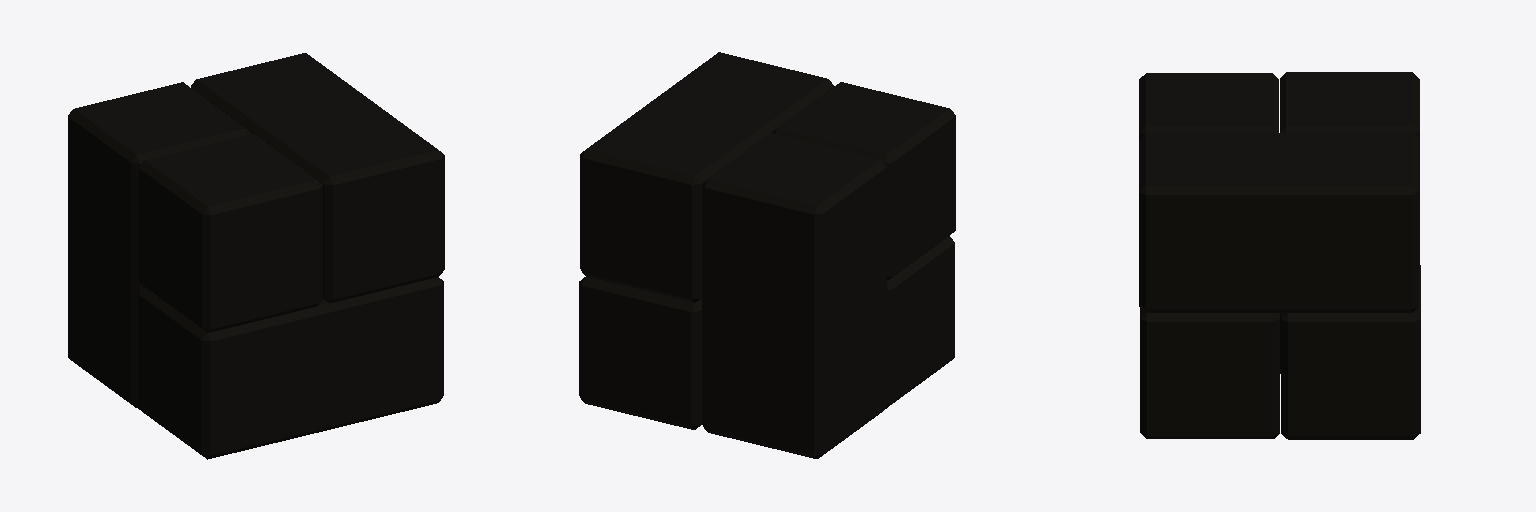
The model's file is cubb.obj.
3 renders of one model, left to right at view 1: azimuth 30°, elevation 25°; view 2: azimuth 150°, elevation 25°; view 3: azimuth 270°, elevation 25°, orthographic.
Visible parts, largest first — view 1: Cube; view 2: Cube; view 3: Cube.
Part boxes in pixels (x1,y1,x2,y2): Cube: (68, 53, 444, 459); Cube: (579, 52, 955, 458); Cube: (1139, 72, 1420, 439).
Size of the model in its own units: 1.99 by 1.98 by 1.99.